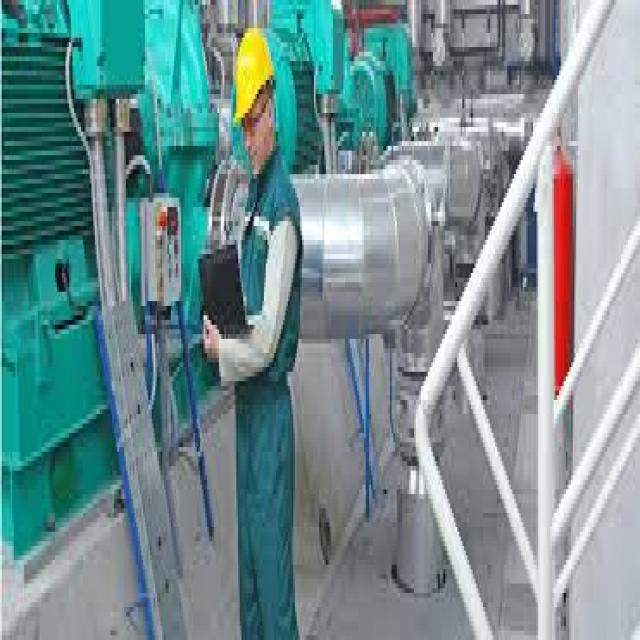Reflective-Jacket: (226, 164, 310, 390)
Safety-Helmet: (226, 14, 278, 137)
